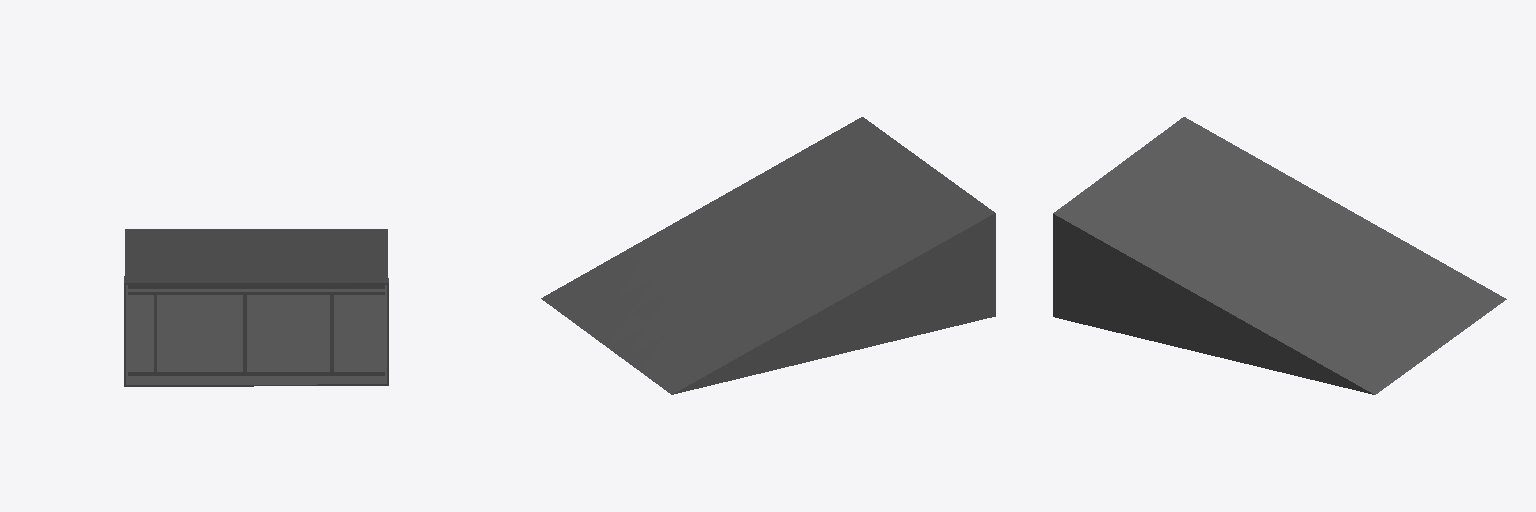
File: Skate_Ramp_Fun_Box_07_.obj
3 views of the same model, side by side, from view 1: azimuth 30°, elevation 25°; view 2: azimuth 150°, elevation 25°; view 3: azimuth 270°, elevation 25° (orthographic).
Parts seen in each view (by area): view 1: Skate_Ramp_Fun_Box_07_Skate_Ramp, Skate_Ramp_Fun_Box_07_Metal_Pipes; view 2: Skate_Ramp_Fun_Box_07_Skate_Ramp; view 3: Skate_Ramp_Fun_Box_07_Skate_Ramp.
Boxes of the visible parts, <box> form: Skate_Ramp_Fun_Box_07_Skate_Ramp: <box>124,229,388,386</box>; Skate_Ramp_Fun_Box_07_Metal_Pipes: <box>128,285,384,375</box>; Skate_Ramp_Fun_Box_07_Skate_Ramp: <box>541,117,995,394</box>; Skate_Ramp_Fun_Box_07_Skate_Ramp: <box>1053,117,1506,394</box>.
Size of the model in its own units: 361 by 99.67 by 396.